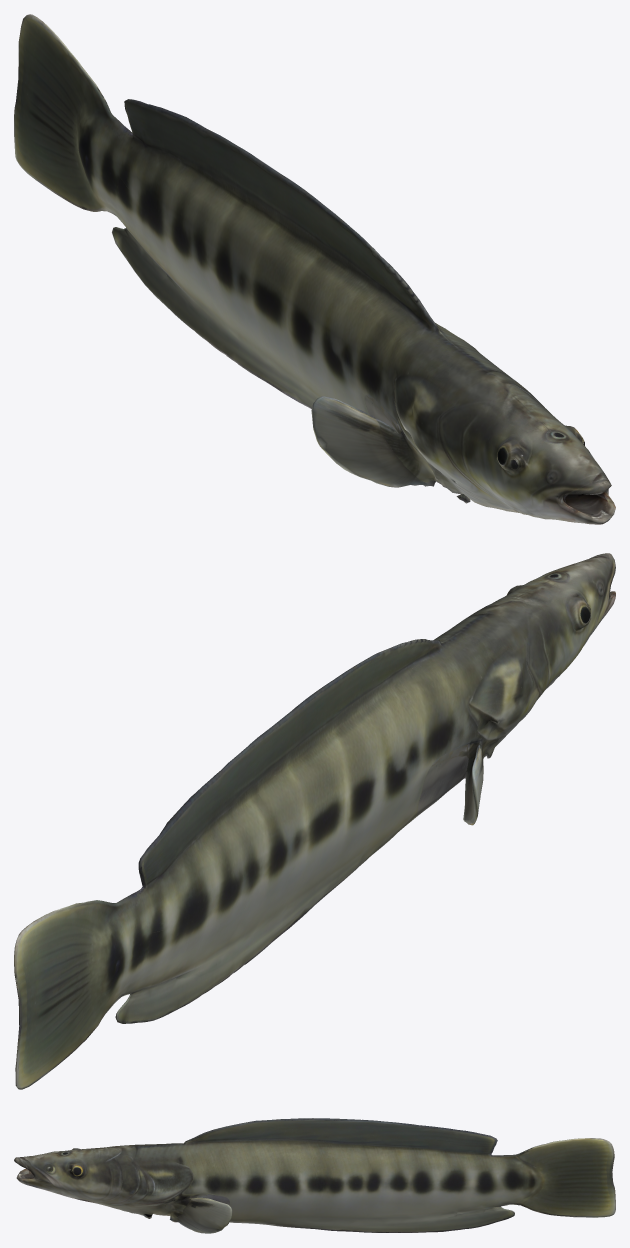
The model's file is toman_0604062632_texture.glb.
3 views of the same model, one above another, from view 1: azimuth 30°, elevation 25°; view 2: azimuth 150°, elevation 25°; view 3: azimuth 270°, elevation 25° (orthographic). The views are drawn at different scales.
Size of the model in its own units: 0.3156 by 0.4165 by 1.99.
Materials: 1 (1 with a texture image).
